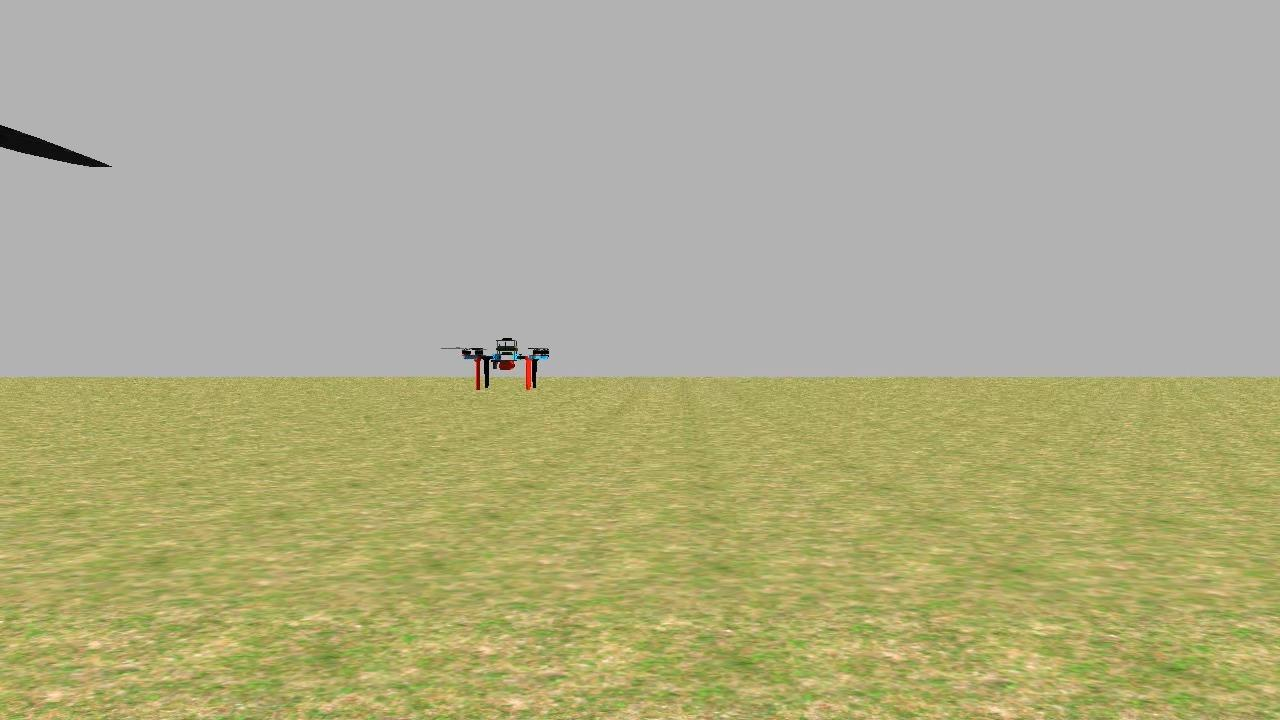UAV: (441, 331, 562, 392)
